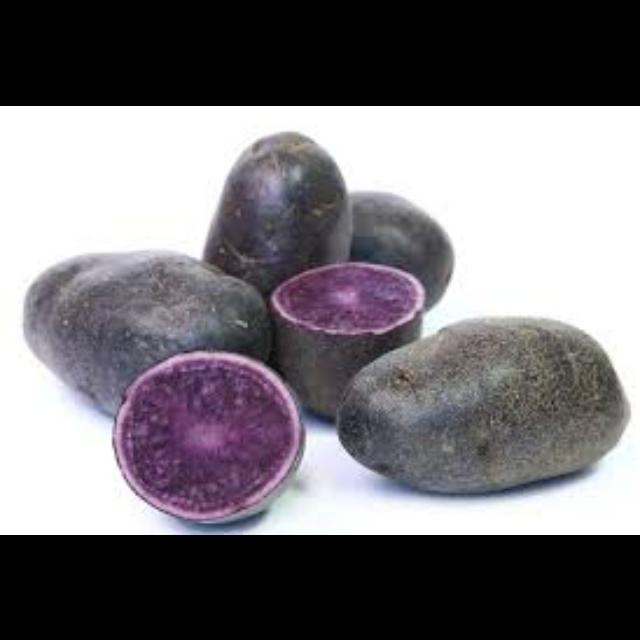Damaged potato: (332, 312, 630, 500), (18, 244, 278, 421), (210, 127, 356, 271)
Defected potato: (110, 348, 310, 530), (268, 252, 426, 424)
